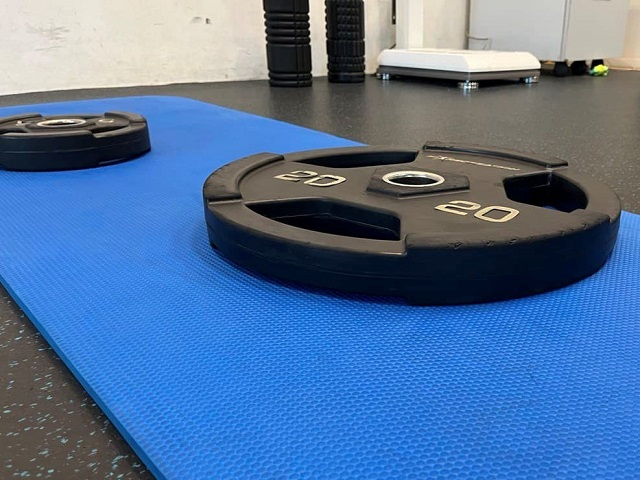weights: (201, 142, 623, 309), (1, 111, 153, 170)
